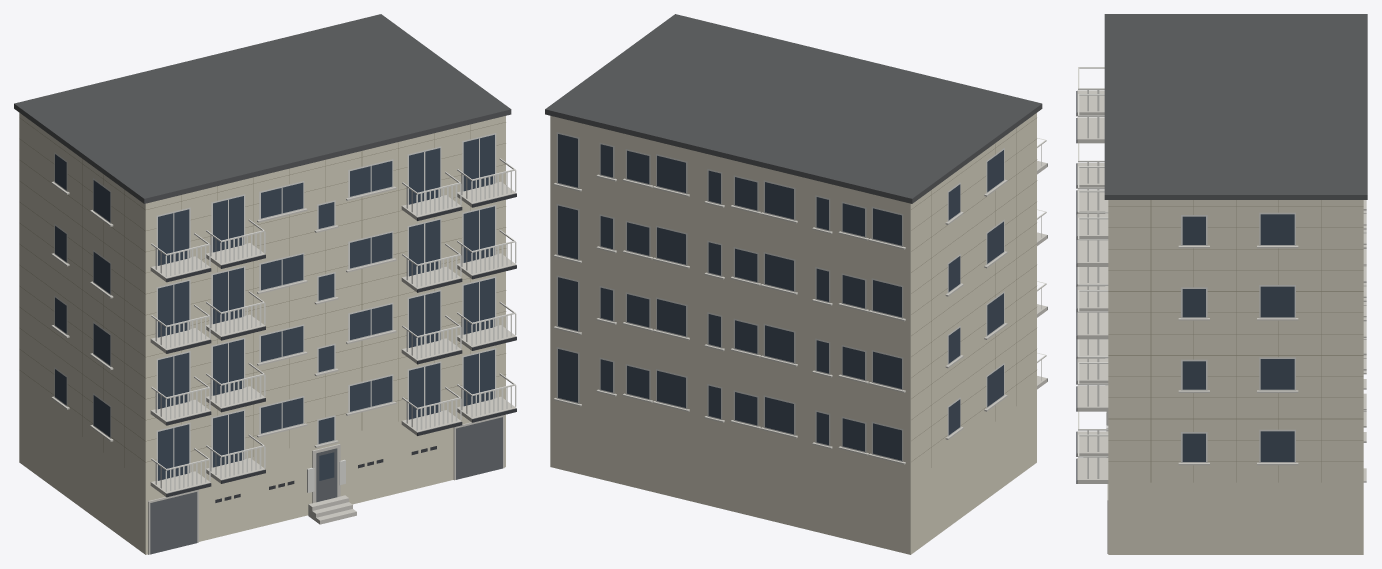
Rendered from nw-pilotis-panel-flat__concrete-panel__5__flat__long__solid.glb.
The picture shows the model from 3 angles, left to right: view 1: azimuth 30°, elevation 25°; view 2: azimuth 150°, elevation 25°; view 3: azimuth 270°, elevation 25°; orthographic projection.
Visible parts, largest first — view 1: nw-pilotis-panel-flat__concrete-panel__5__flat__long__solid; view 2: nw-pilotis-panel-flat__concrete-panel__5__flat__long__solid; view 3: nw-pilotis-panel-flat__concrete-panel__5__flat__long__solid.
Boxes of the visible parts, box(x1,y1,x2,y2) form: nw-pilotis-panel-flat__concrete-panel__5__flat__long__solid: box(14, 14, 516, 554); nw-pilotis-panel-flat__concrete-panel__5__flat__long__solid: box(545, 14, 1047, 554); nw-pilotis-panel-flat__concrete-panel__5__flat__long__solid: box(1076, 14, 1367, 554).
Size of the model in its own units: 16.45 by 15.34 by 11.18.
